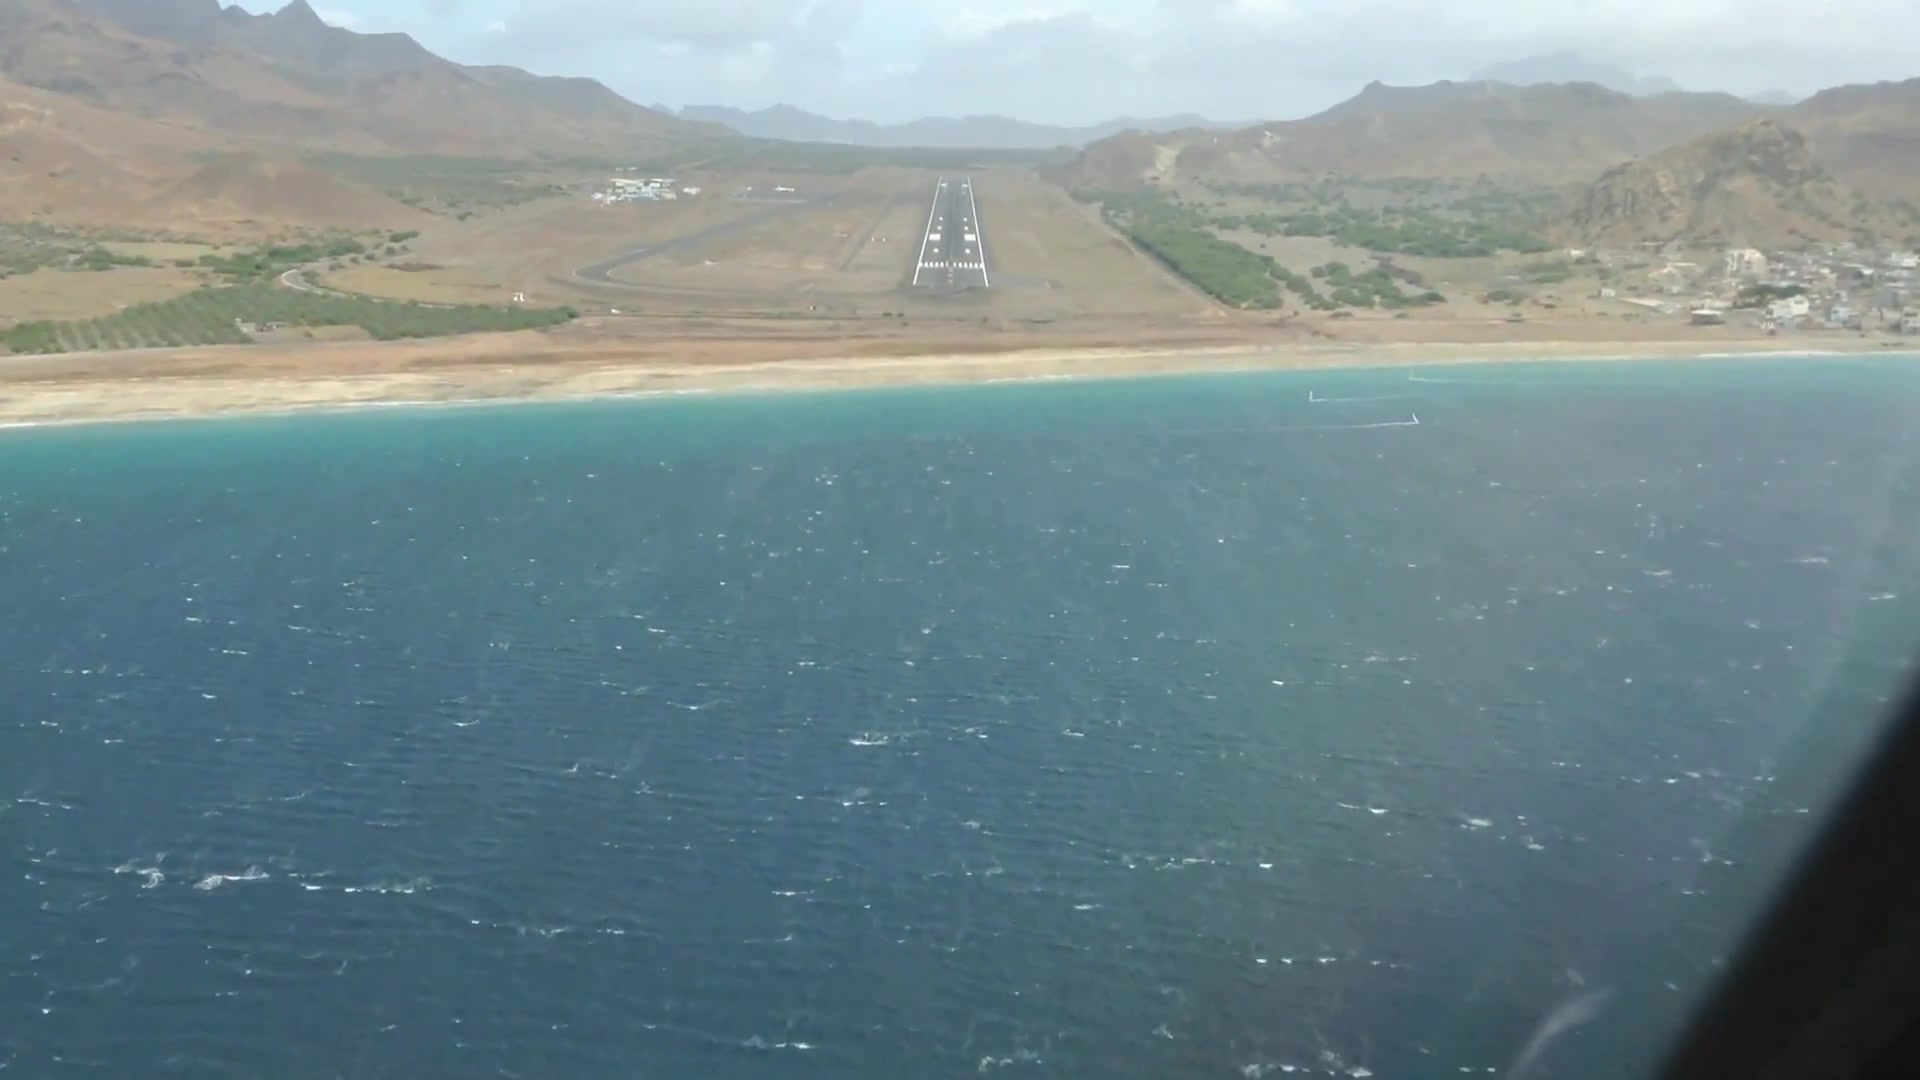entrance: (915, 261, 984, 269)
runway: (911, 175, 989, 290)
